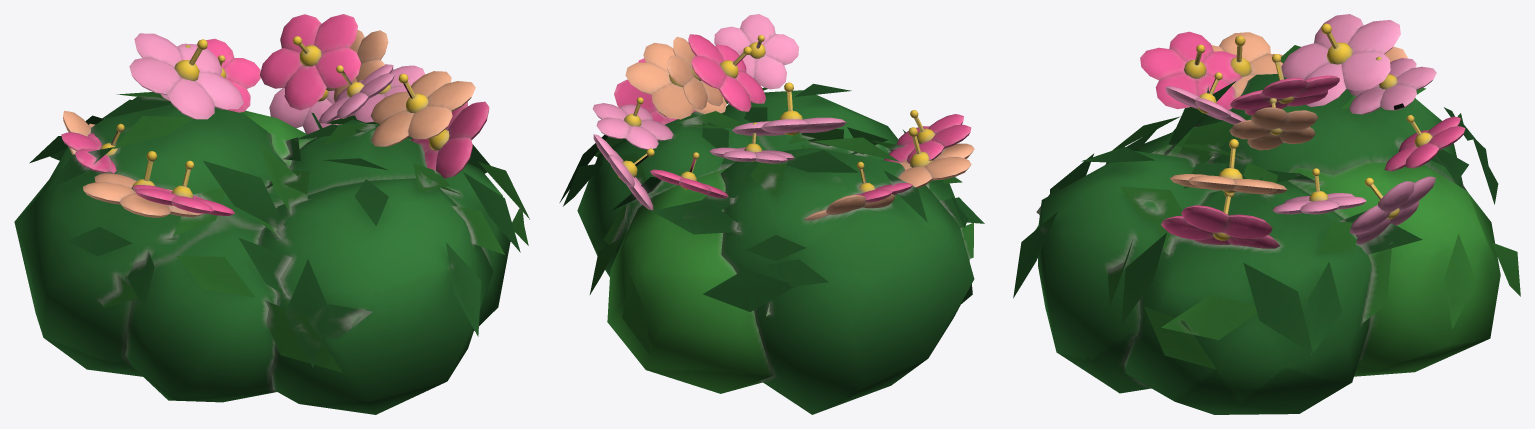
Rendered from tf_hibiscus_bush.glb.
3 views of the same model, side by side, from view 1: azimuth 30°, elevation 25°; view 2: azimuth 150°, elevation 25°; view 3: azimuth 270°, elevation 25° (orthographic). The views are drawn at different scales.
Visible parts, largest first — view 1: tf_hibiscus_bush; view 2: tf_hibiscus_bush; view 3: tf_hibiscus_bush.
Boxes of the visible parts, bbox=[...] form: tf_hibiscus_bush: bbox=[14, 14, 529, 414]; tf_hibiscus_bush: bbox=[559, 14, 984, 414]; tf_hibiscus_bush: bbox=[1013, 14, 1520, 414].
Bounding box in the file's own units: 3.2 × 2.23 × 3.12.
Materials: 6 (6 with a texture image).
